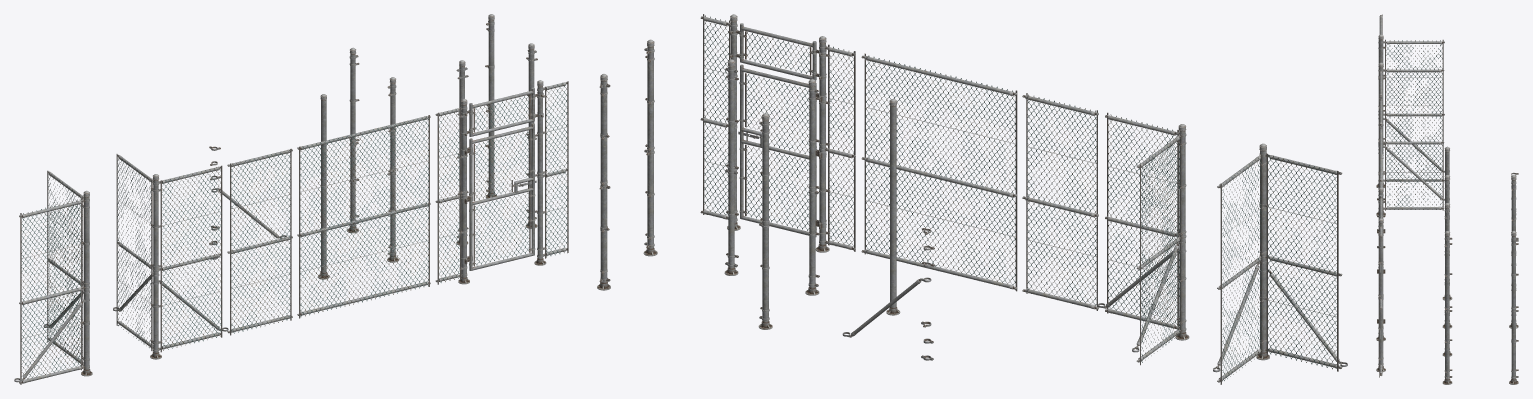
File: modular_chainlink_fence.gltf
The picture shows the model from 3 angles, left to right: view 1: azimuth 30°, elevation 25°; view 2: azimuth 150°, elevation 25°; view 3: azimuth 270°, elevation 25°; orthographic projection. The views are drawn at different scales.
Visible parts, largest first — view 1: modular_chainlink_fence_double, modular_chainlink_fence_corner_outer, modular_chainlink_fence_corner_inner, modular_chainlink_fence_door_frame, modular_chainlink_fence, modular_chainlink_fence_door_gate, modular_chainlink_fence_start_01_corner_02, modular_chainlink_fence_end_02, modular_chainlink_fence_end_01, modular_chainlink_fence_post, modular_chainlink_fence_start_01_corner_01, modular_chainlink_post_middle; view 2: modular_chainlink_fence_double, modular_chainlink_fence_corner_inner, modular_chainlink_fence_corner_outer, modular_chainlink_fence_door_frame, modular_chainlink_fence, modular_chainlink_fence_door_gate, modular_chainlink_fence_start_01_corner_02, modular_chainlink_post_middle, modular_chainlink_fence_end_01, modular_chainlink_fence_start_01_corner_01, modular_chainlink_fence_end_02, modular_chainlink_fence_post; view 3: modular_chainlink_fence_corner_outer, modular_chainlink_fence_corner_inner, modular_chainlink_fence_door_frame, modular_chainlink_fence_start_01_corner_01, modular_chainlink_fence_start_01_corner_02, modular_chainlink_fence_end_02, modular_chainlink_fence_double, modular_chainlink_fence_end_01, modular_chainlink_post_middle, modular_chainlink_fence_post.
Part boxes in pixels (x1,y1,x2,y2): modular_chainlink_fence_double: [297, 115, 430, 318]; modular_chainlink_fence_corner_outer: [113, 154, 228, 359]; modular_chainlink_fence_corner_inner: [14, 170, 92, 384]; modular_chainlink_fence_door_frame: [435, 80, 568, 284]; modular_chainlink_fence: [227, 148, 292, 335]; modular_chainlink_fence_door_gate: [469, 123, 535, 270]; modular_chainlink_fence_start_01_corner_02: [485, 14, 496, 198]; modular_chainlink_fence_end_02: [347, 47, 359, 233]; modular_chainlink_fence_end_01: [387, 77, 398, 262]; modular_chainlink_fence_post: [317, 94, 329, 279]; modular_chainlink_fence_start_01_corner_01: [525, 43, 537, 228]; modular_chainlink_post_middle: [456, 60, 468, 245]; modular_chainlink_fence_double: [861, 53, 1017, 291]; modular_chainlink_fence_corner_inner: [1213, 143, 1347, 384]; modular_chainlink_fence_corner_outer: [1097, 112, 1189, 365]; modular_chainlink_fence_door_frame: [700, 14, 855, 252]; modular_chainlink_fence: [1022, 93, 1098, 310]; modular_chainlink_fence_door_gate: [739, 64, 816, 236]; modular_chainlink_fence_start_01_corner_02: [597, 74, 610, 290]; modular_chainlink_post_middle: [724, 59, 738, 275]; modular_chainlink_fence_end_01: [805, 79, 819, 295]; modular_chainlink_fence_start_01_corner_01: [643, 39, 657, 256]; modular_chainlink_fence_end_02: [758, 113, 772, 329]; modular_chainlink_fence_post: [886, 98, 900, 315]; modular_chainlink_fence_corner_outer: [1376, 62, 1449, 233]; modular_chainlink_fence_corner_inner: [1376, 14, 1449, 188]; modular_chainlink_fence_door_frame: [1376, 182, 1385, 377]; modular_chainlink_fence_start_01_corner_01: [1442, 231, 1452, 384]; modular_chainlink_fence_start_01_corner_02: [1509, 231, 1518, 384]; modular_chainlink_fence_end_02: [1509, 175, 1518, 328]; modular_chainlink_fence_double: [1379, 126, 1382, 183]; modular_chainlink_fence_end_01: [1442, 175, 1452, 328]; modular_chainlink_post_middle: [1442, 203, 1452, 356]; modular_chainlink_fence_post: [1442, 146, 1452, 300].
Size of the model in its own units: 8.12 by 2.52 by 2.15.
2 materials, 2 textured.
